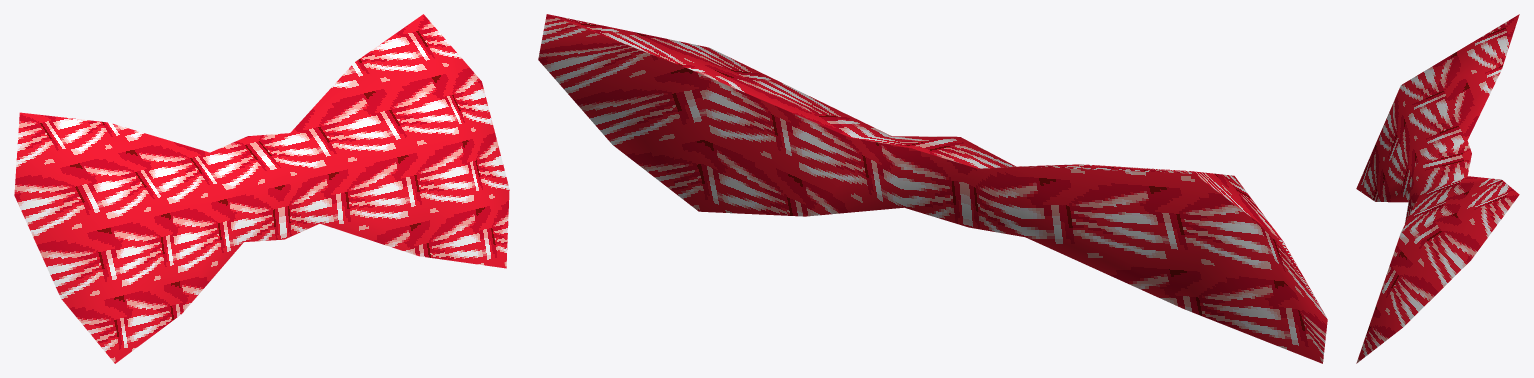
The model's file is code_head100.gltf.
3 renders of one model, left to right at view 1: azimuth 30°, elevation 25°; view 2: azimuth 150°, elevation 25°; view 3: azimuth 270°, elevation 25°, orthographic. The views are drawn at different scales.
Parts seen in each view (by area): view 1: code_head100; view 2: code_head100; view 3: code_head100.
Boxes of the visible parts, x1,y1,x2,y2 form: code_head100: (14, 14, 509, 363); code_head100: (538, 14, 1327, 363); code_head100: (1356, 14, 1519, 363).
Bounding box in the file's own units: 0.7495 × 0.2876 × 0.2476.
1 material, 1 textured.
